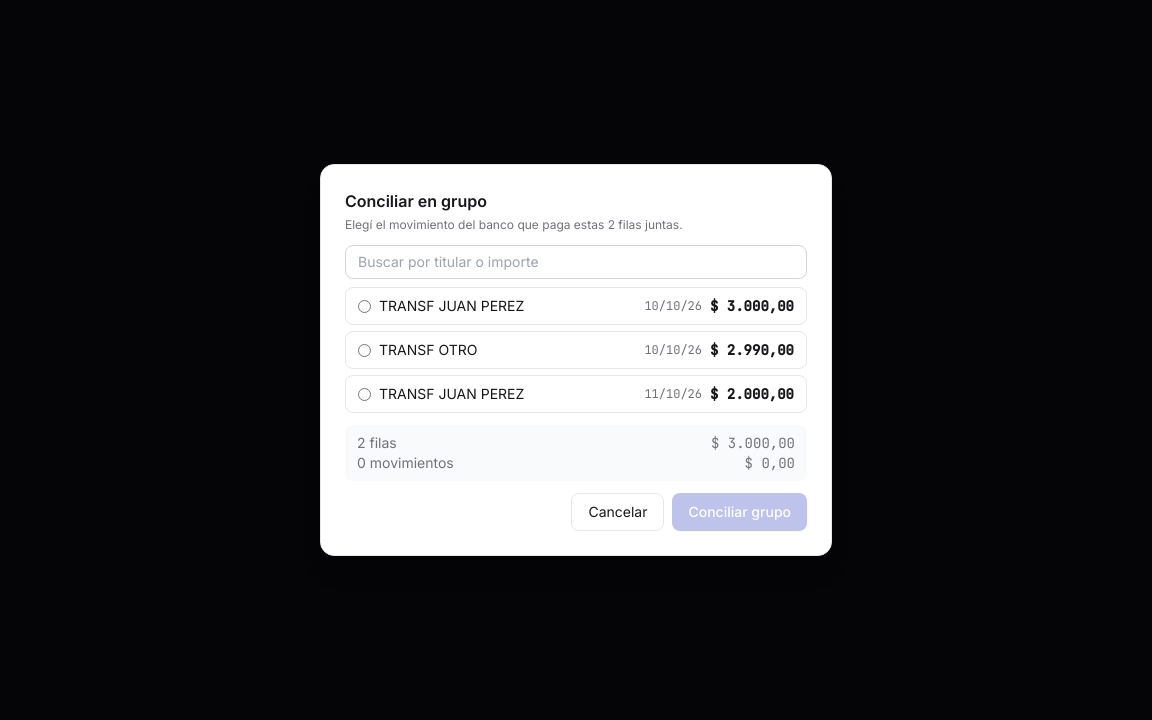
Test: AgruparModal › muestra el error del servidor
Click the radio button labelled "TRANSF JUAN PEREZ 10/10/26 $ 3.000,00": [364, 306] box [358, 300, 371, 312]
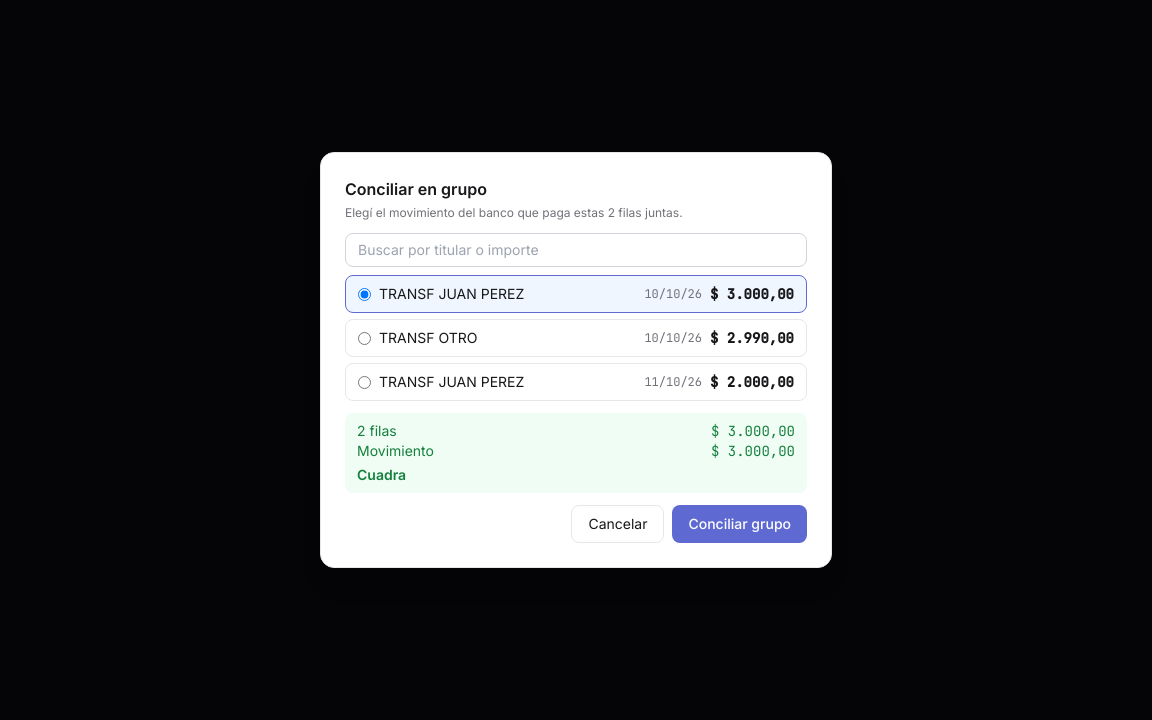
Click the button "Conciliar grupo": [740, 524] box [672, 505, 807, 543]
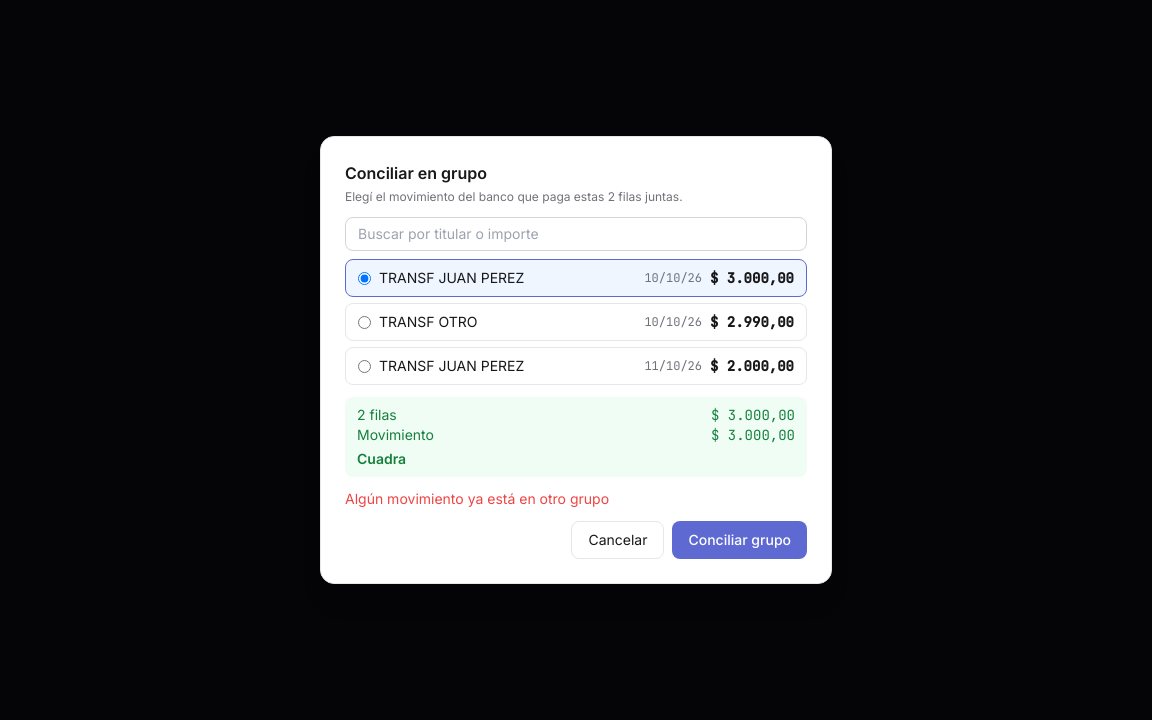
Now the text "Algún movimiento ya está en otro grupo" is shown, box [345, 490, 609, 507]
